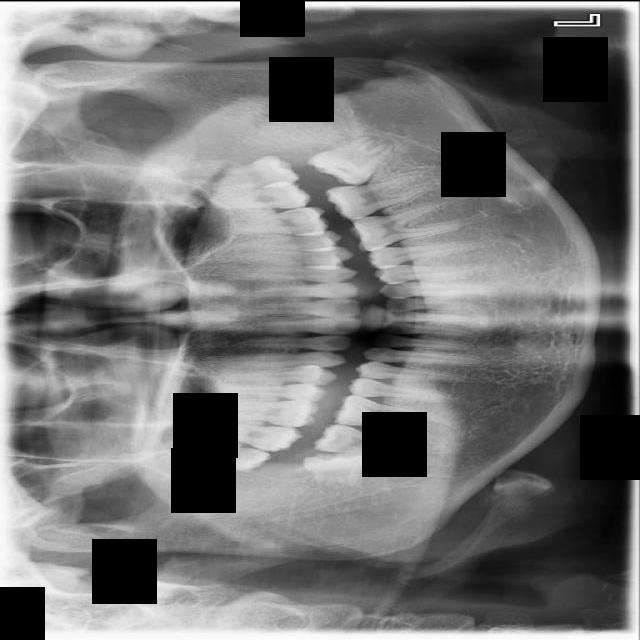3M ESPE Implant: (175, 438, 272, 475)
73: (614, 8, 622, 16)
BioHorizons Implant: (205, 180, 313, 209)
BioLife Implant: (200, 151, 302, 194)
Biomet 3i Implant: (305, 125, 403, 200)
Blue Sky Bio Implant: (323, 170, 435, 224)
Caries: (187, 420, 303, 453)
Implant: (312, 420, 417, 464)
Keystone Dental Implant: (301, 448, 373, 493)
